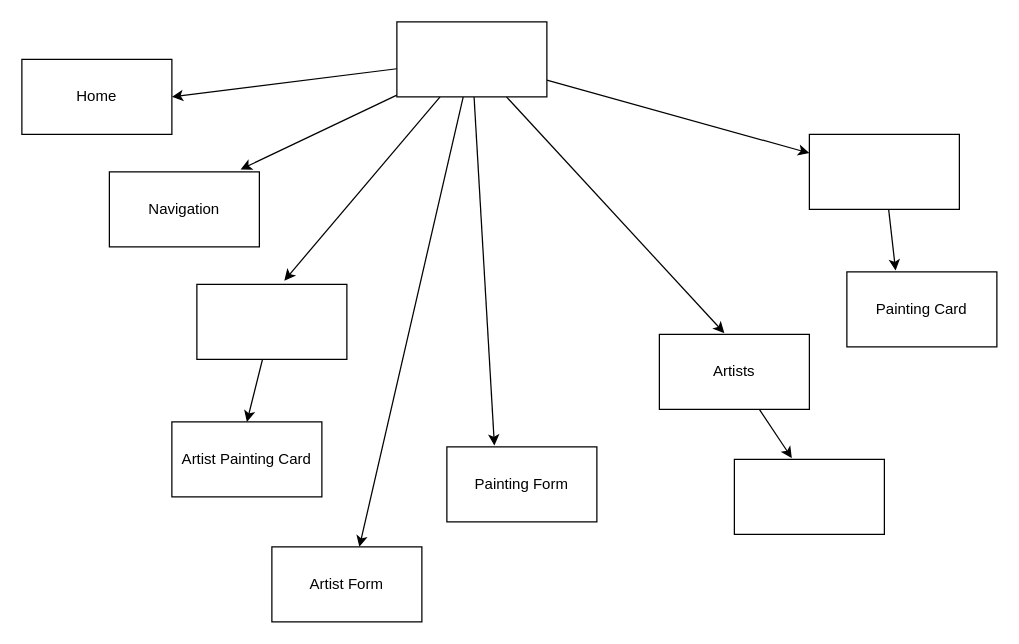
Image size: 1019x644. Some labels were removed from this diagram. Here are the shapes that lost their labels. From the top down, the box of each, then its label:
(396, 21, 547, 97): App
(808, 133, 959, 209): Paintings
(196, 283, 347, 359): Artist Paintings
(733, 458, 884, 534): Artist Card
